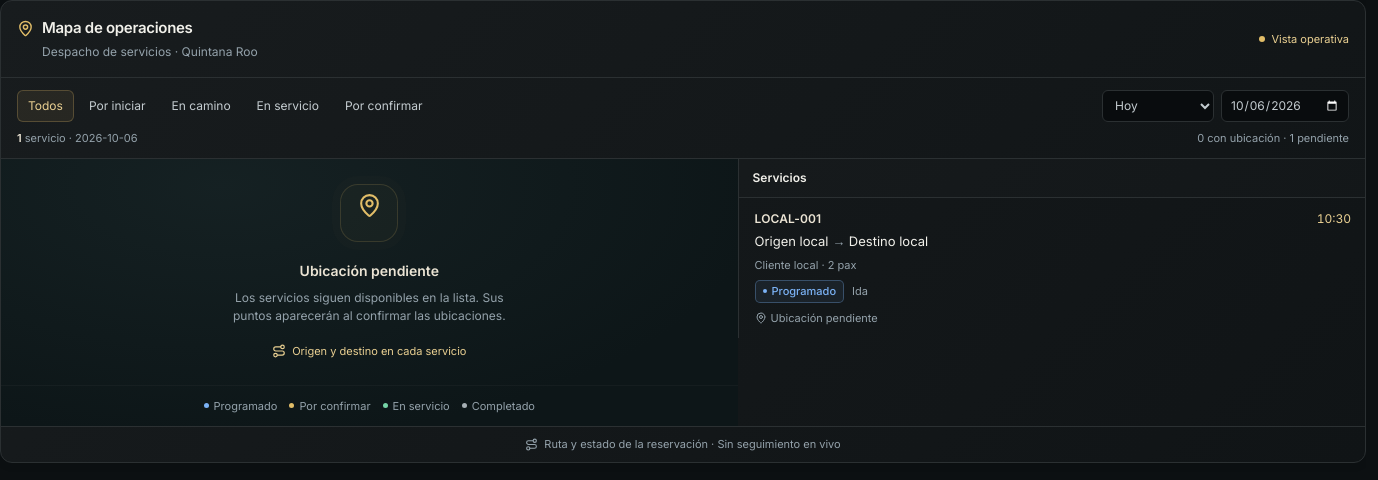
Test: Mapa de operaciones con datos aislados › los filtros actualizan la lista y explican el estado aún no registrado
This screenshot has width=1378, height=480.
Click the button "En servicio": (288, 106) [246,90,330,122]
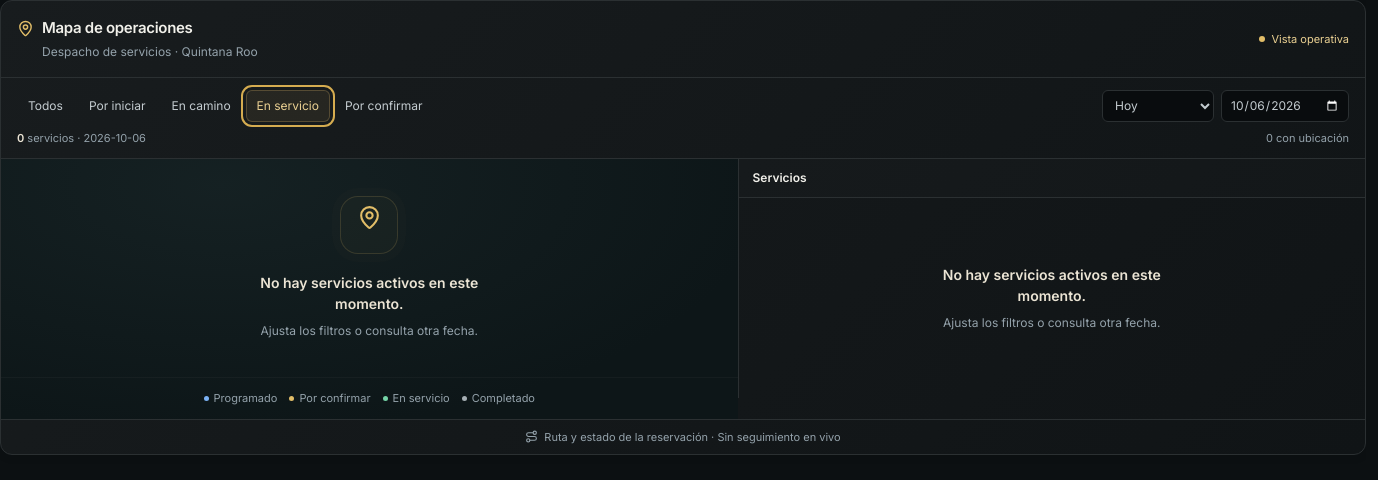
Now the number of headings "No hay servicios activos en este momento." is 2, box [260,274,478,312]; [943,266,1161,304]
Click the button "En camino": (201, 106) [160,90,242,122]
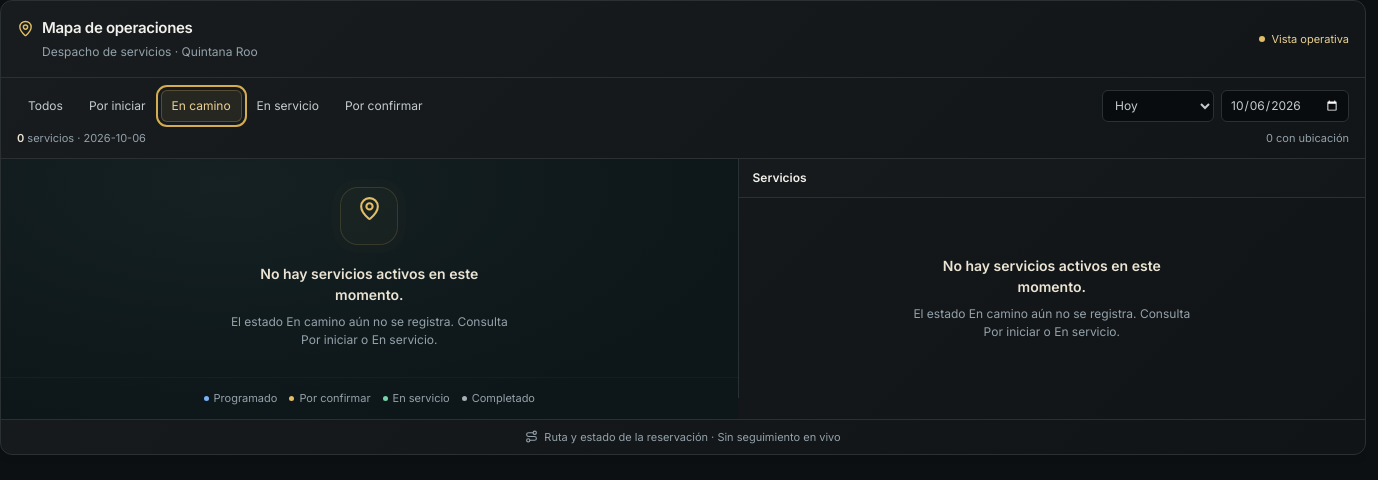
Now the text "El estado En camino aún no se registra" is shown 2 times, box [224,313,514,349]; [907,305,1197,341]
Click the button "Todos": (45, 106) [17,90,74,122]
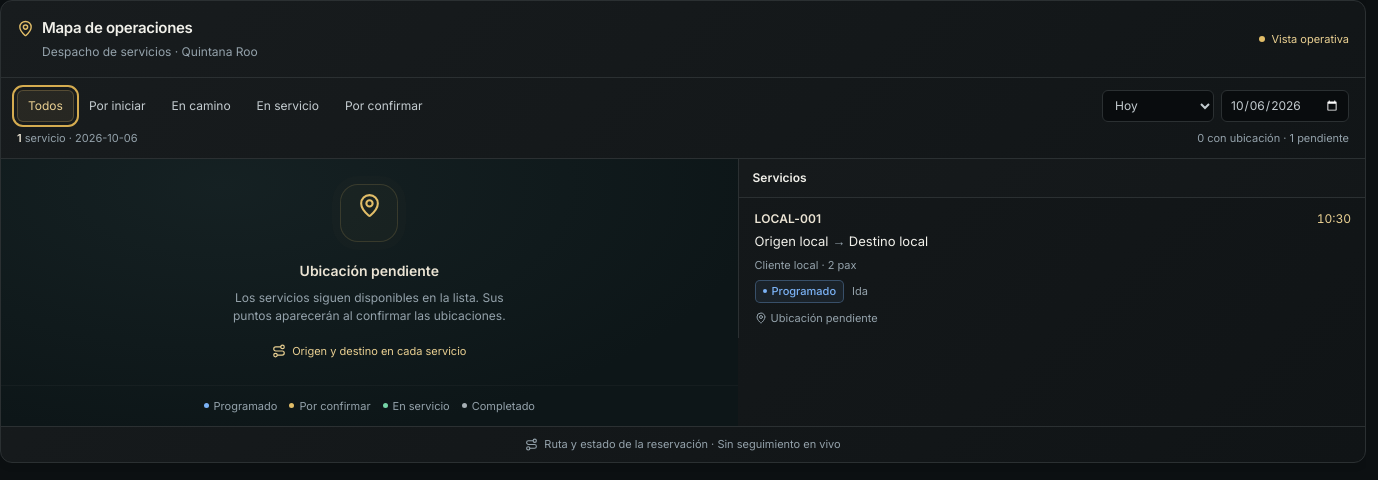
Now the button with aria-label "LOCAL-001 · Ida" is shown, box [739,198,1365,338]
